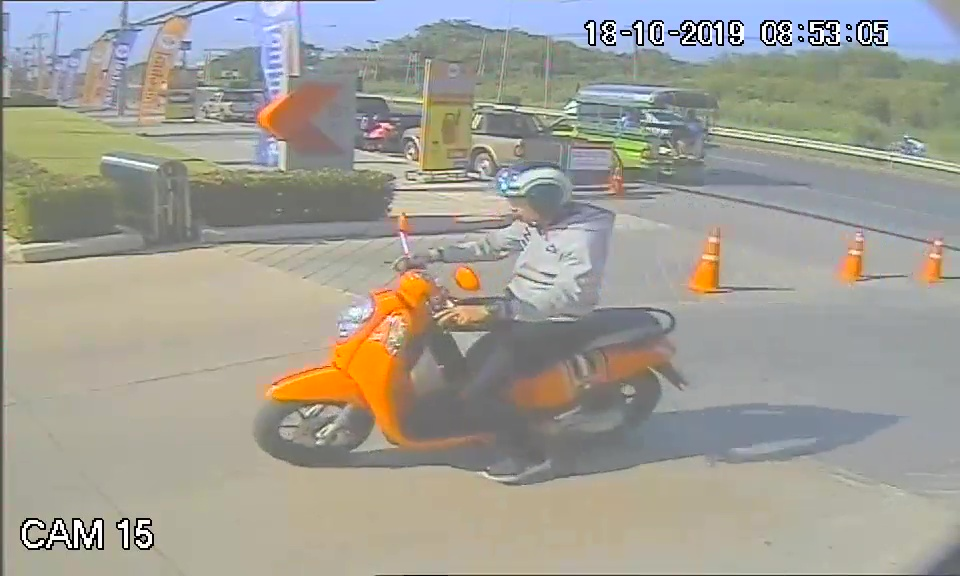motorcycle: (250, 269, 693, 491)
